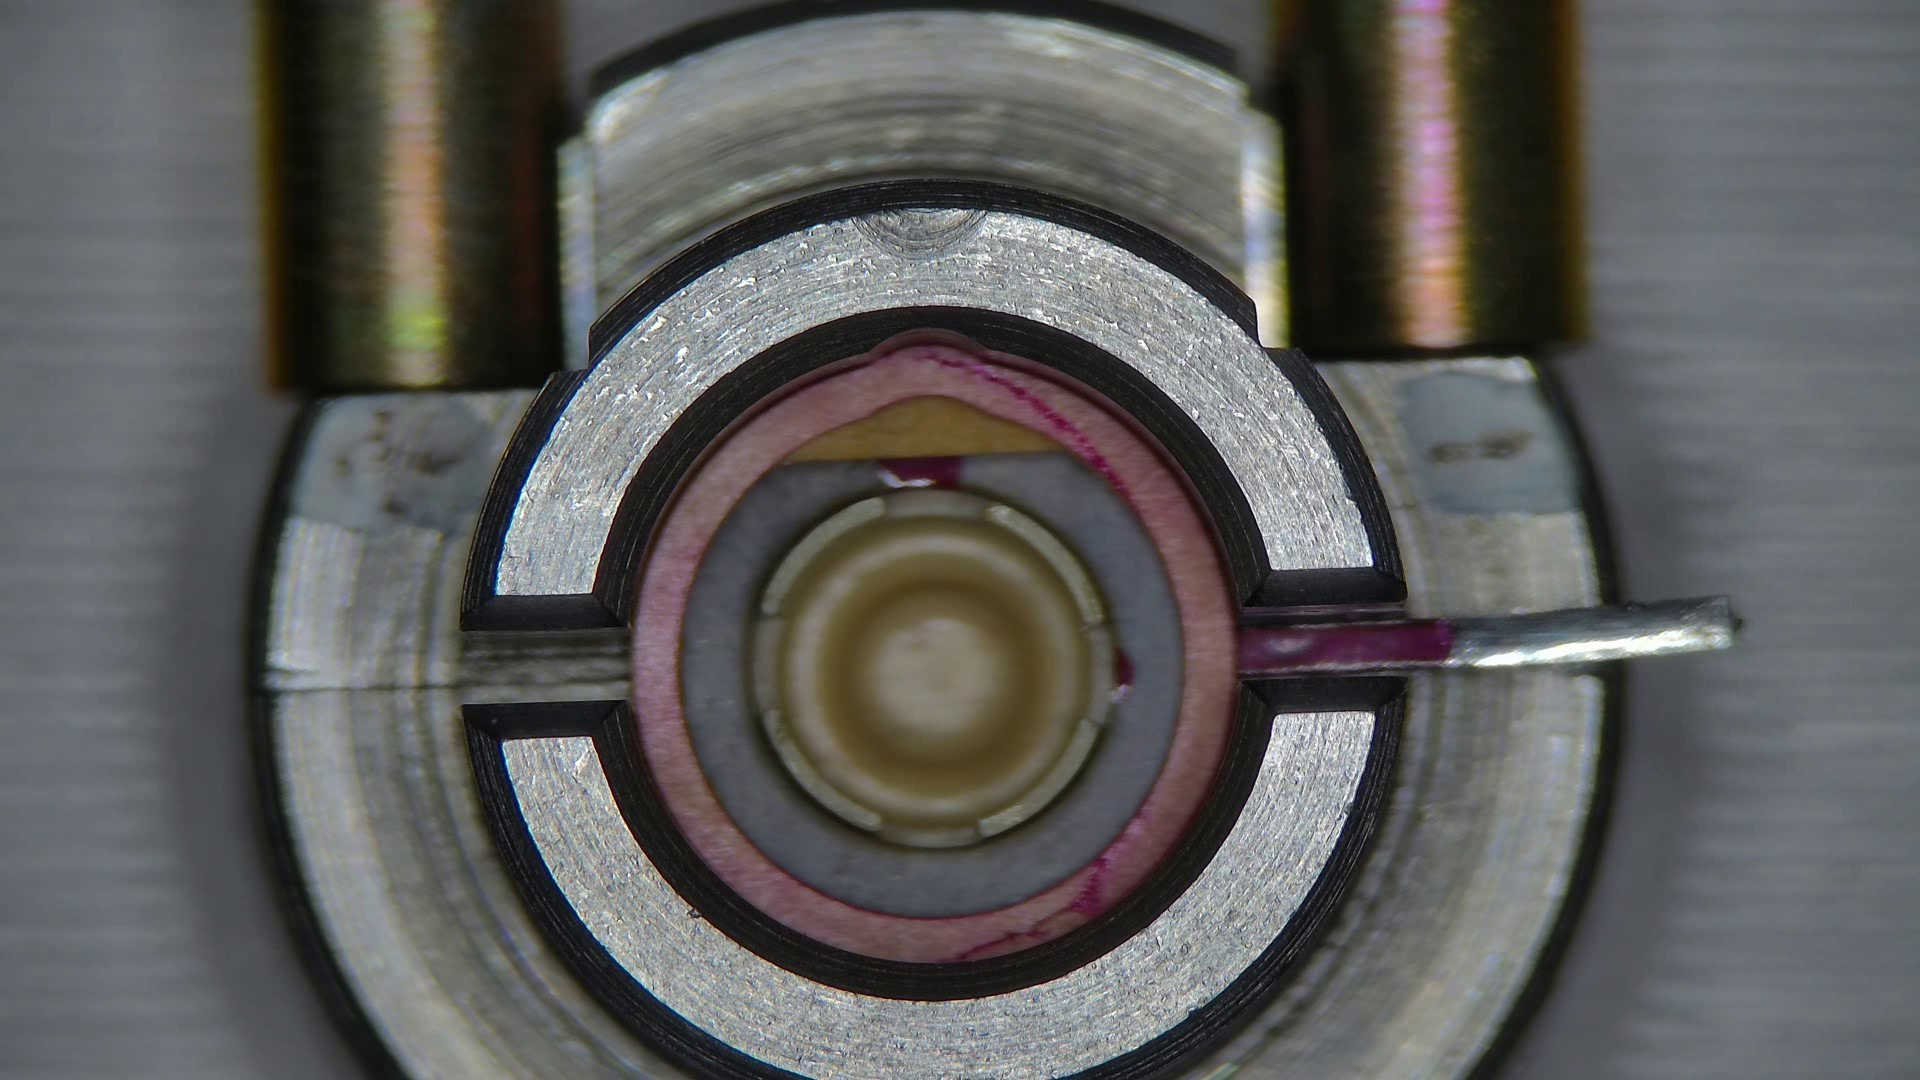GreyOring: (632, 342, 1236, 963)
YellowOring: (680, 454, 1182, 915)
redOring: (790, 400, 1065, 459)
